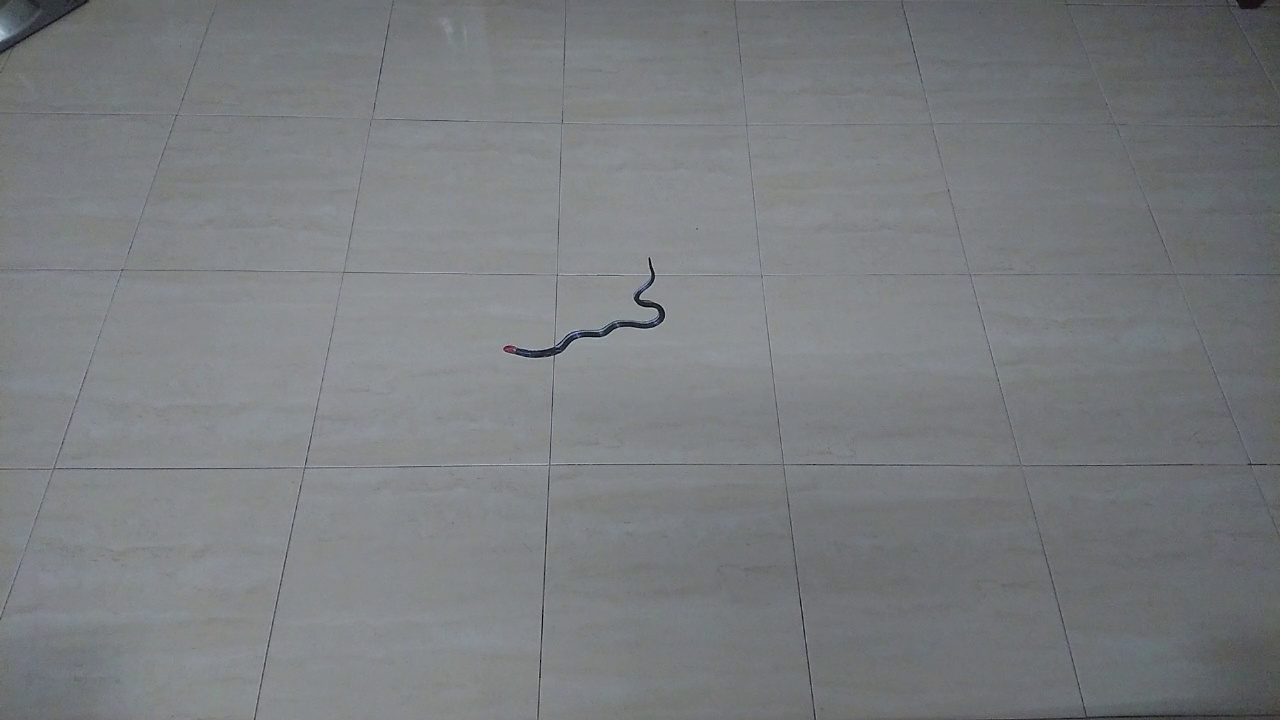snake: (492, 249, 678, 371)
